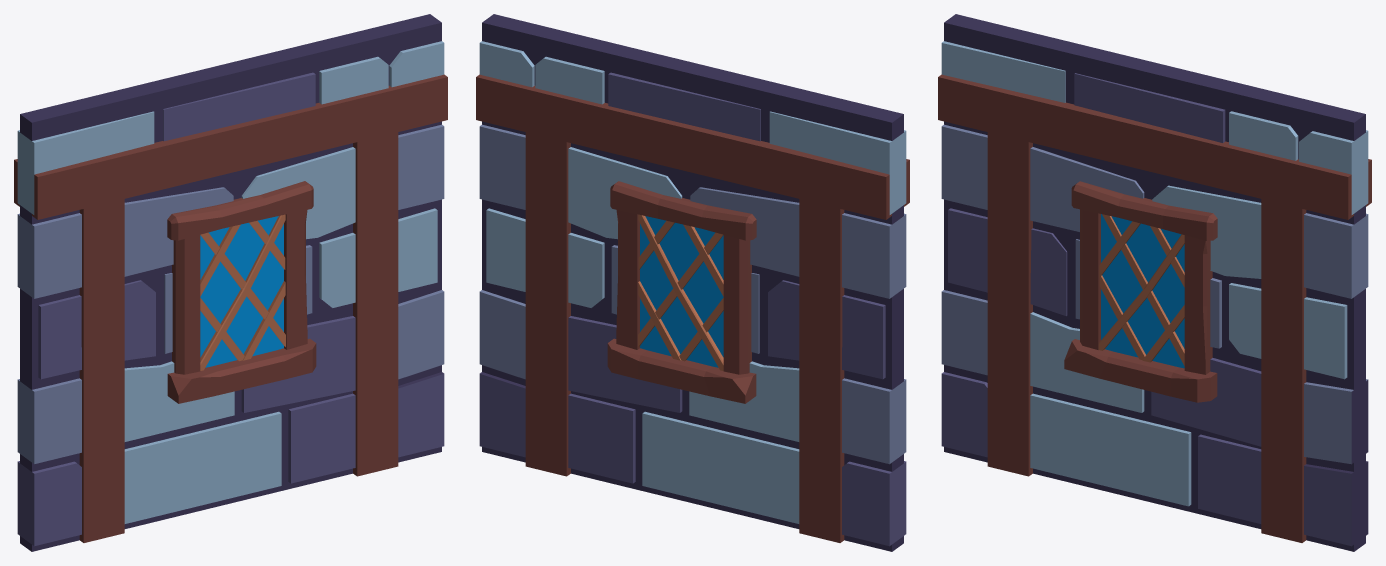
The model's file is Modular Wall 09 MK2 W1.fbx.
3 renders of one model, left to right at view 1: azimuth 30°, elevation 25°; view 2: azimuth 150°, elevation 25°; view 3: azimuth 330°, elevation 25°, orthographic.
Parts seen in each view (by area): view 1: Modular Wall 09 MK2 W1; view 2: Modular Wall 09 MK2 W1; view 3: Modular Wall 09 MK2 W1.
Boxes of the visible parts, left/top/right/bottom form: Modular Wall 09 MK2 W1: left=14, top=14, right=447, bottom=551; Modular Wall 09 MK2 W1: left=476, top=14, right=909, bottom=551; Modular Wall 09 MK2 W1: left=938, top=14, right=1371, bottom=551.
Size of the model in its own units: 400 by 400 by 66.15.
